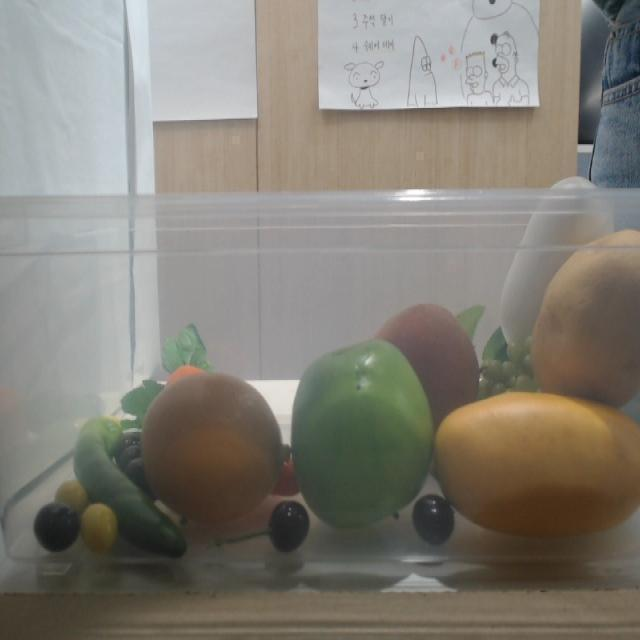Radish: (483, 171, 615, 394)
